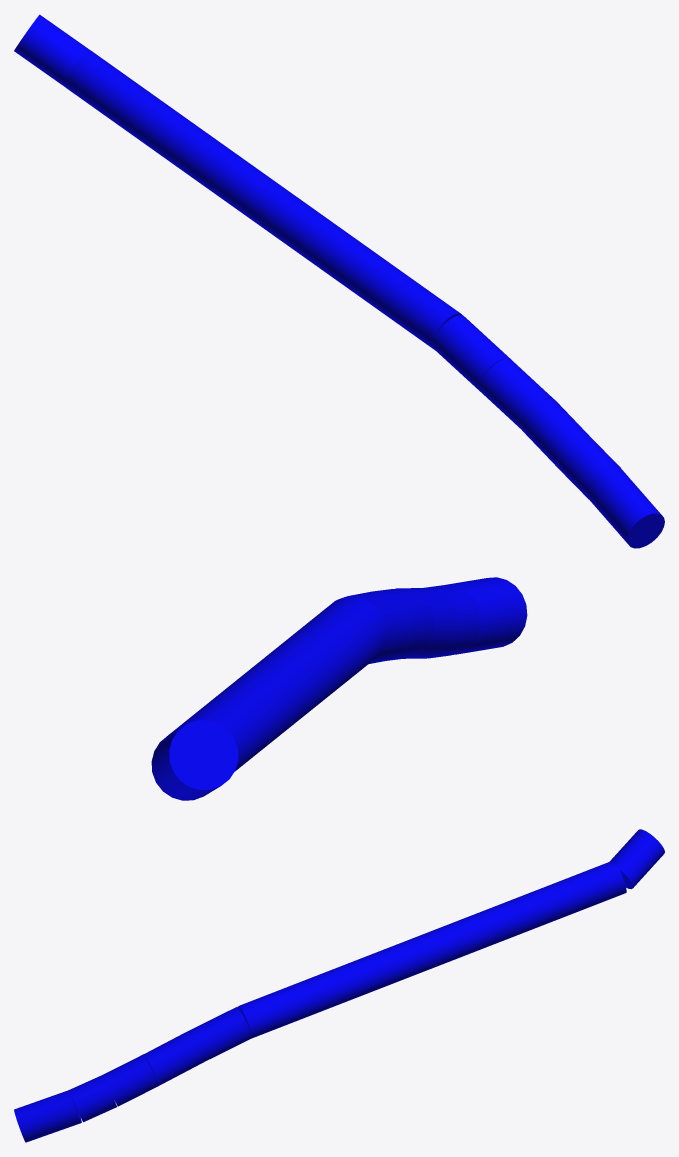
The picture shows the model from 3 angles, top to bottom: view 1: azimuth 30°, elevation 25°; view 2: azimuth 150°, elevation 25°; view 3: azimuth 270°, elevation 25°; orthographic projection. The views are drawn at different scales.
Visible parts, largest first — view 1: Cylinder(Clone) (×7); view 2: Cylinder(Clone) (×7); view 3: Cylinder(Clone) (×7).
Part boxes in pixels (x1=…): Cylinder(Clone) (×7): x1=14, y1=14, x2=664, y2=548; Cylinder(Clone) (×7): x1=151, y1=577, x2=527, y2=800; Cylinder(Clone) (×7): x1=14, y1=829, x2=664, y2=1142.
Size of the model in its own units: 0.0645 by 0.0717 by 0.1839.
